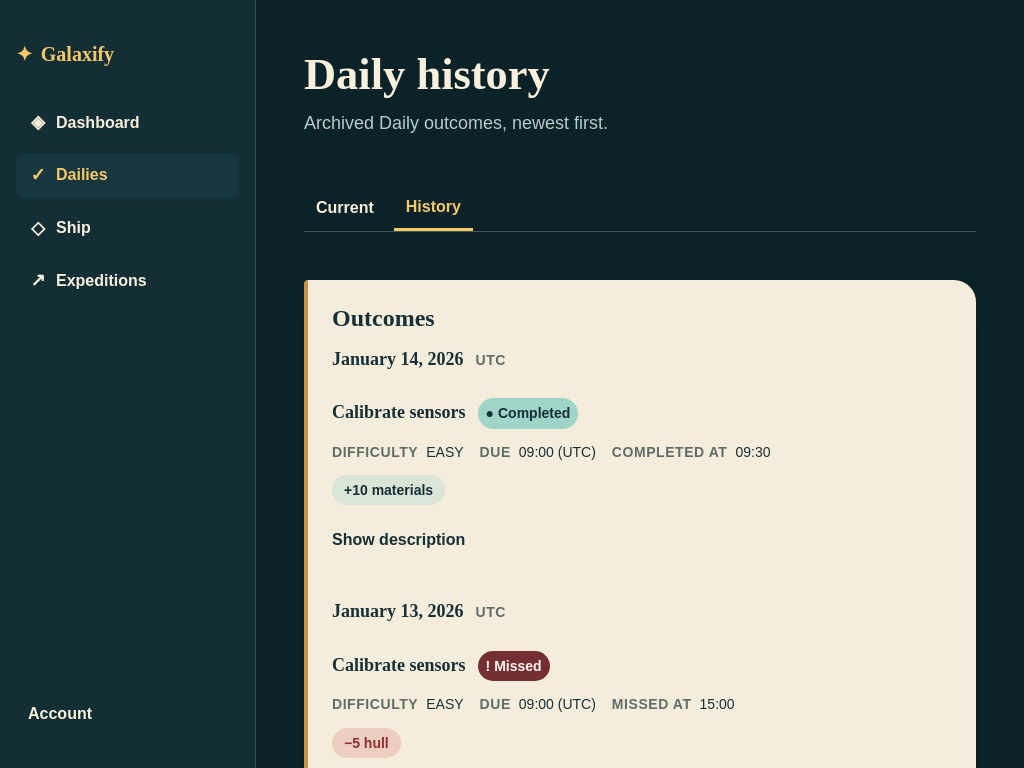
Test: /dailies/history › collapses long descriptions behind a labelled disclosure
The width and height of the screenshot is (1024, 768).
expect the heading "Daily history" is shown: met, box left=304, top=49, right=550, bottom=99
expect the text "Before the next jump" is not shown: met
Click the heading "Show description" at (399, 539), box left=332, top=530, right=465, bottom=548
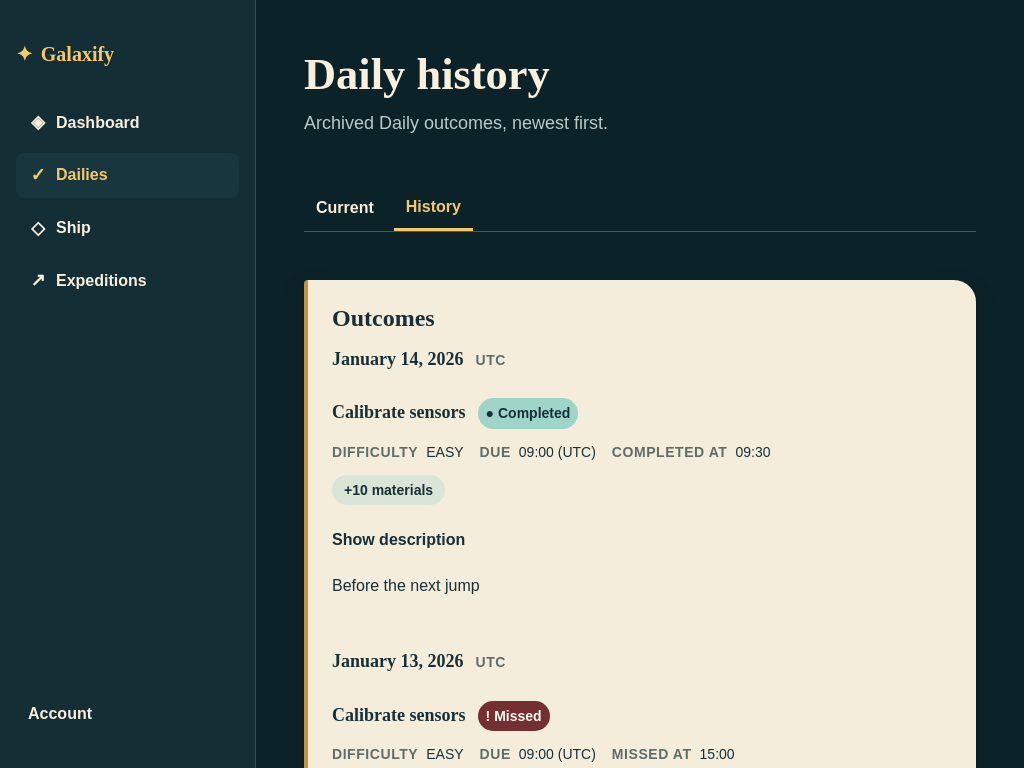
expect the text "Before the next jump" is shown: met, box left=332, top=577, right=480, bottom=594
